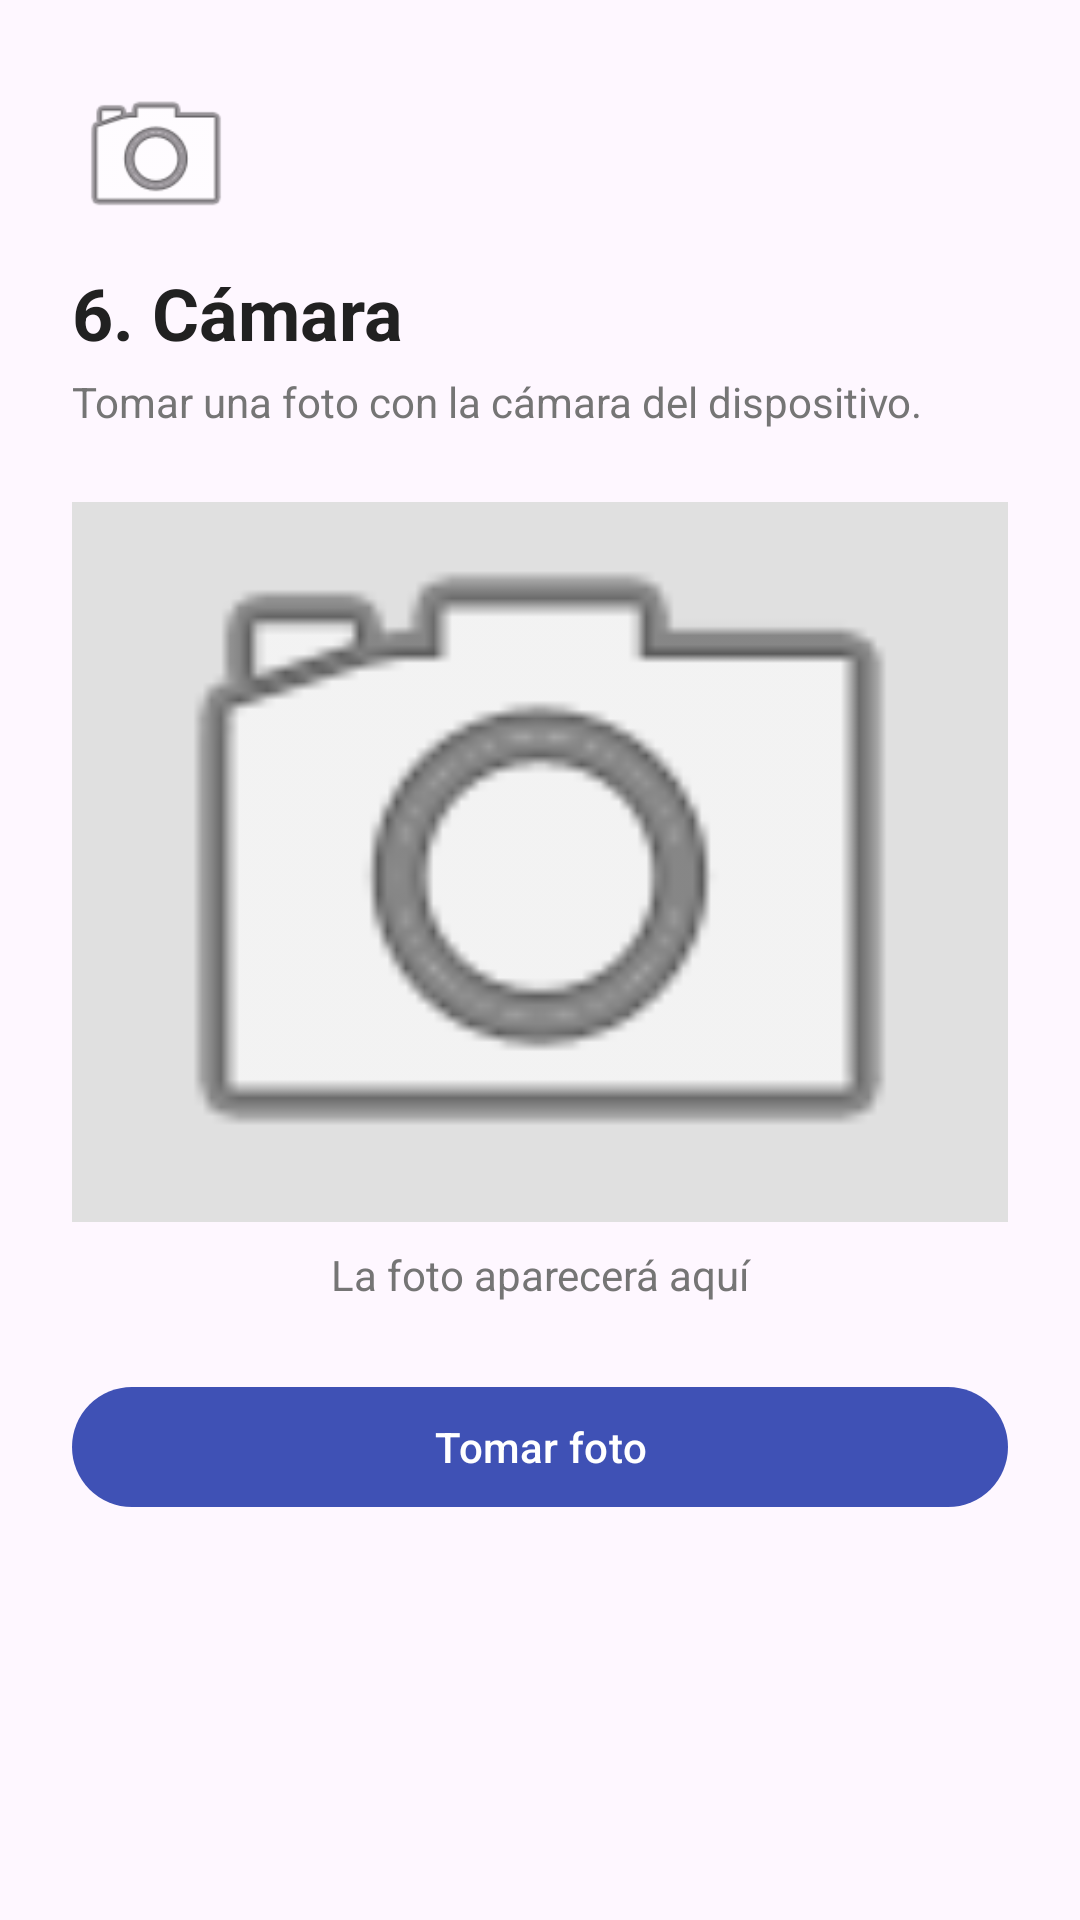

Where icons sit on this 1080px x 1920px app screen, as (x1, y1, x2, y2):
camera: (91, 102, 221, 205)
